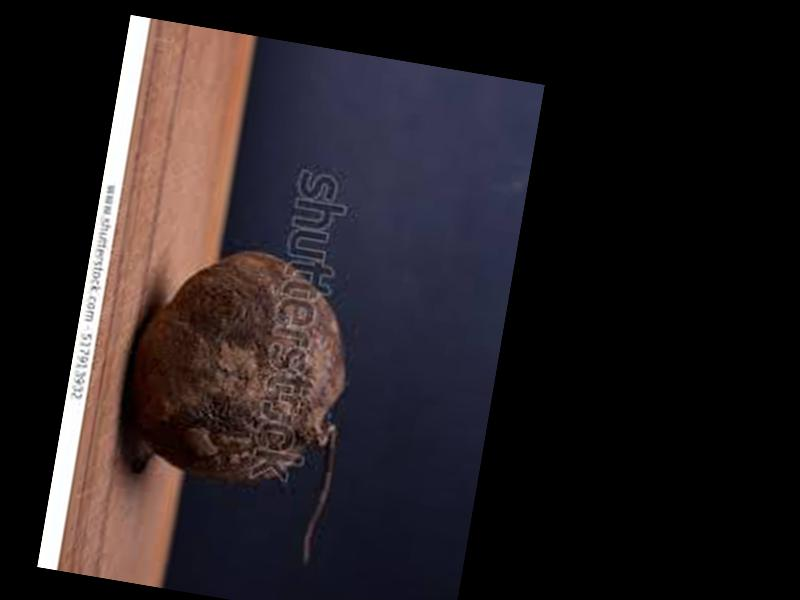Beet: (105, 235, 367, 570)
